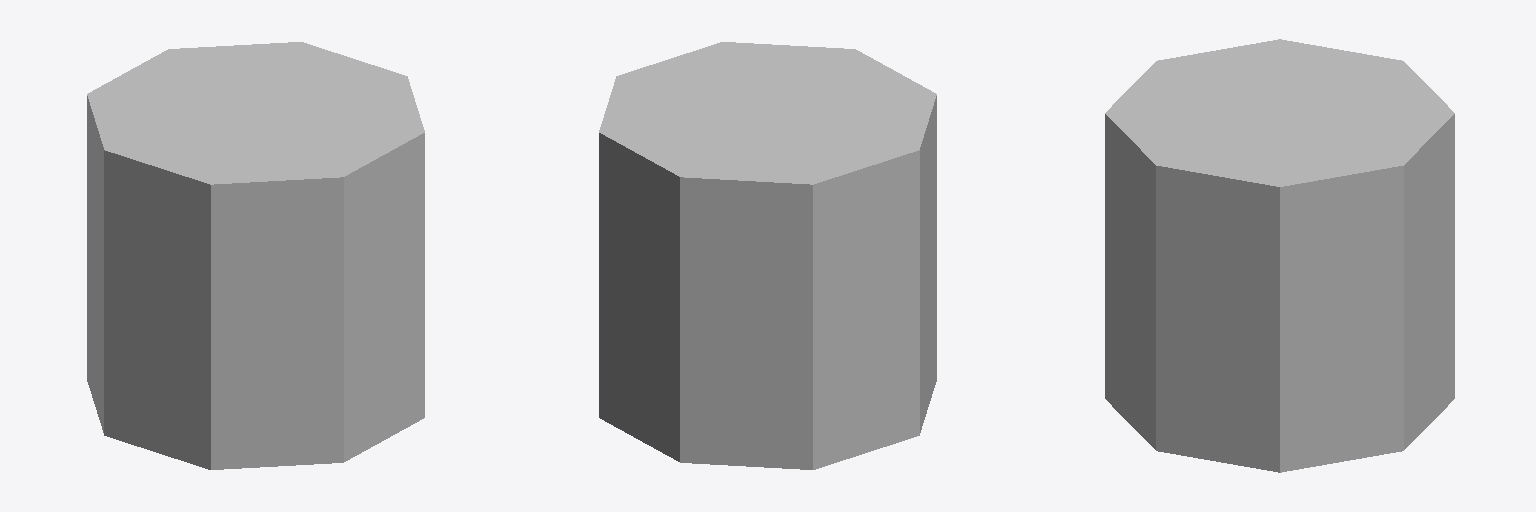
Rendered from CylinderTriggerBigger.obj.
3 views of the same model, side by side, from view 1: azimuth 30°, elevation 25°; view 2: azimuth 150°, elevation 25°; view 3: azimuth 270°, elevation 25° (orthographic).
Parts seen in each view (by area): view 1: CylinderTrigger_Cylinder; view 2: CylinderTrigger_Cylinder; view 3: CylinderTrigger_Cylinder.
Part boxes in pixels (x1,y1,x2,y2): CylinderTrigger_Cylinder: (87,42,424,469); CylinderTrigger_Cylinder: (599,42,936,469); CylinderTrigger_Cylinder: (1105,39,1454,472).
Bounding box in the file's own units: 2.2 × 1.98 × 2.2.